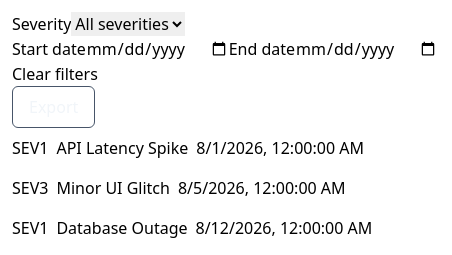
Test case: TimelineContainer › AC: selecting a date range re-renders the timeline showing only matching incidents
Type "2026-08-02" into the date field with test id "date-range-start" at (157, 49), box x1=86 y1=36 x2=229 y2=62
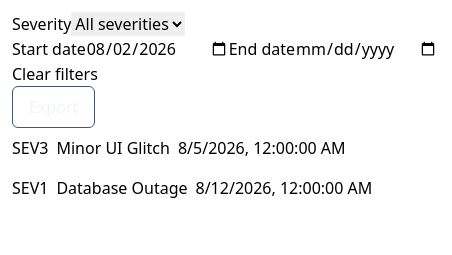
Expected: the list item with test id "incident-timeline-entry-2" is shown, x1=12 y1=137 x2=346 y2=159
Expected: the list item with test id "incident-timeline-entry-1" is gone
